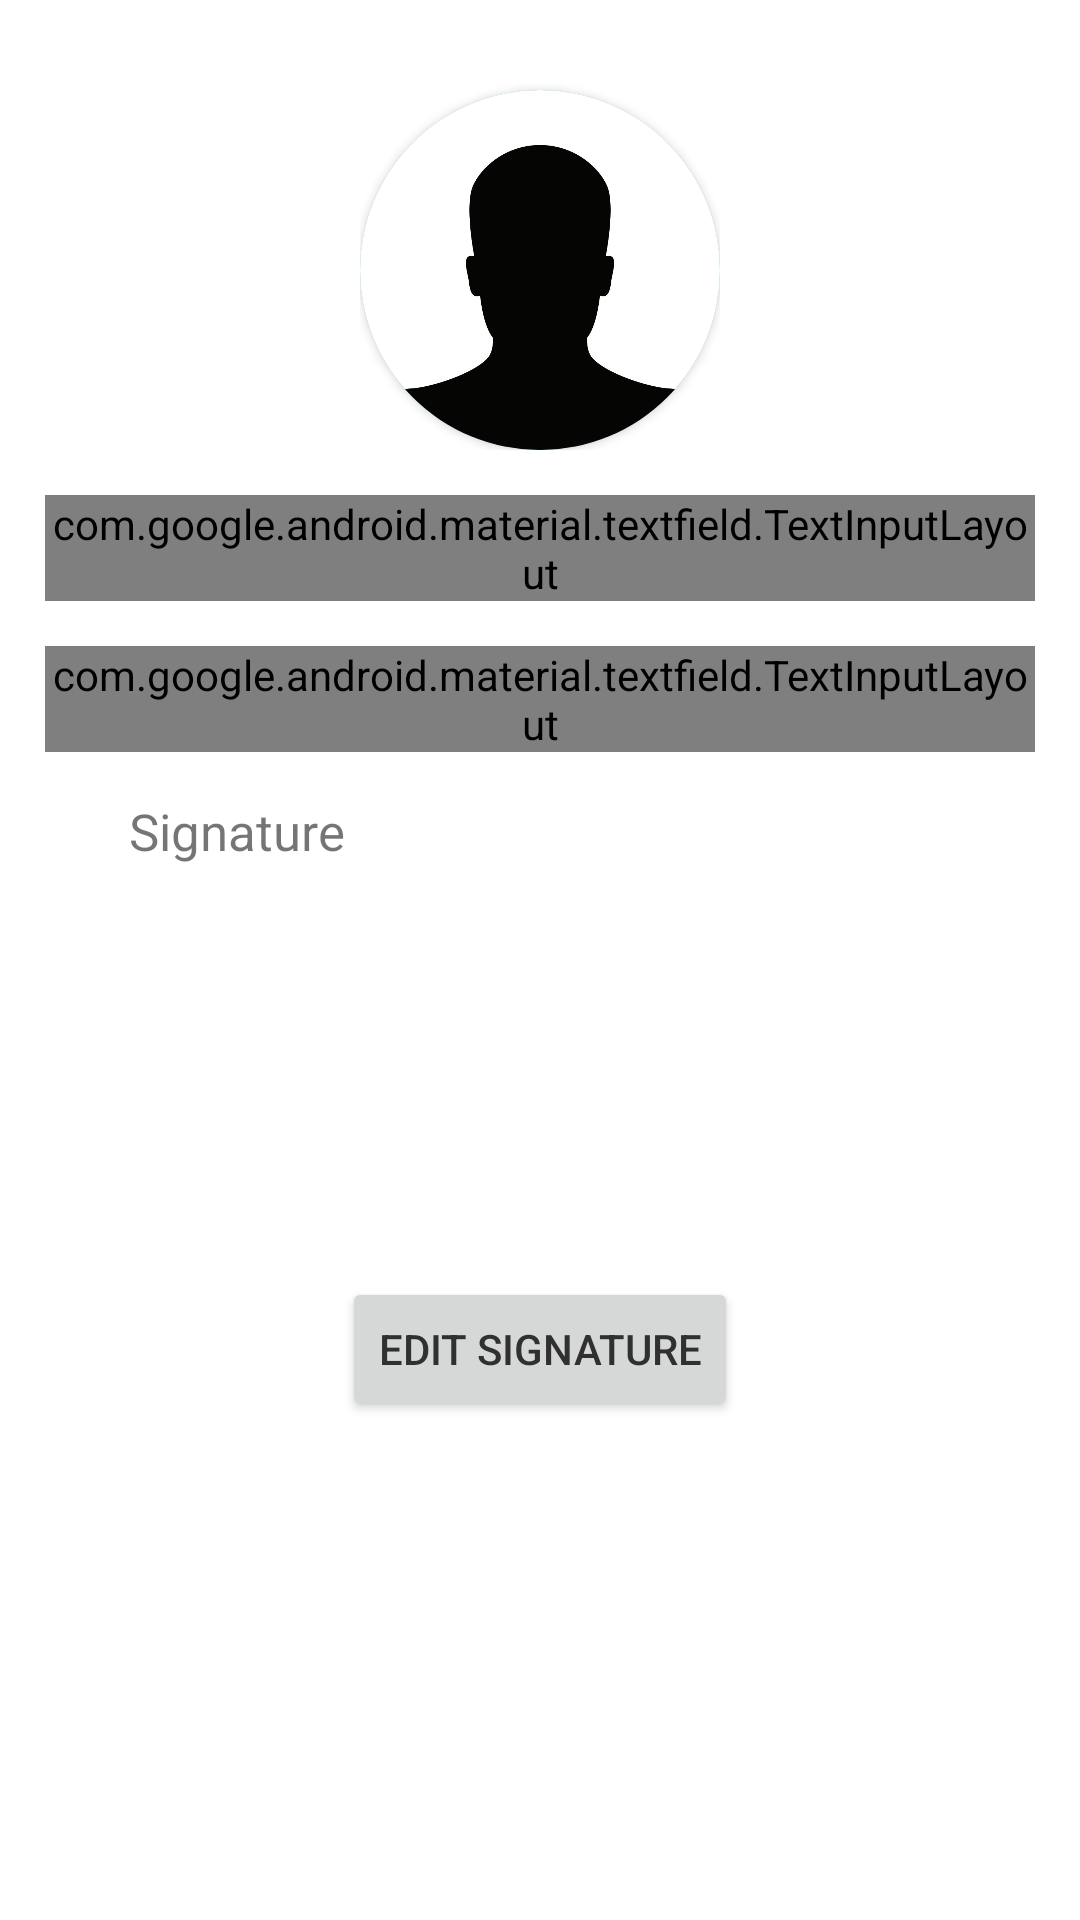

Screen size 1080×1920. Icon name, then its box in pixels as (x1, y1, x2, y2):
anonymous profile: (360, 90, 720, 450)
